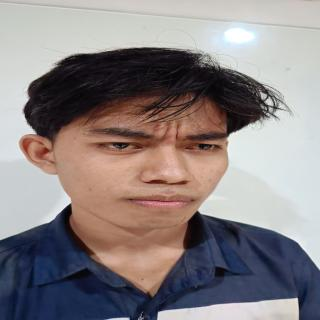Marah: (51, 91, 236, 234)
